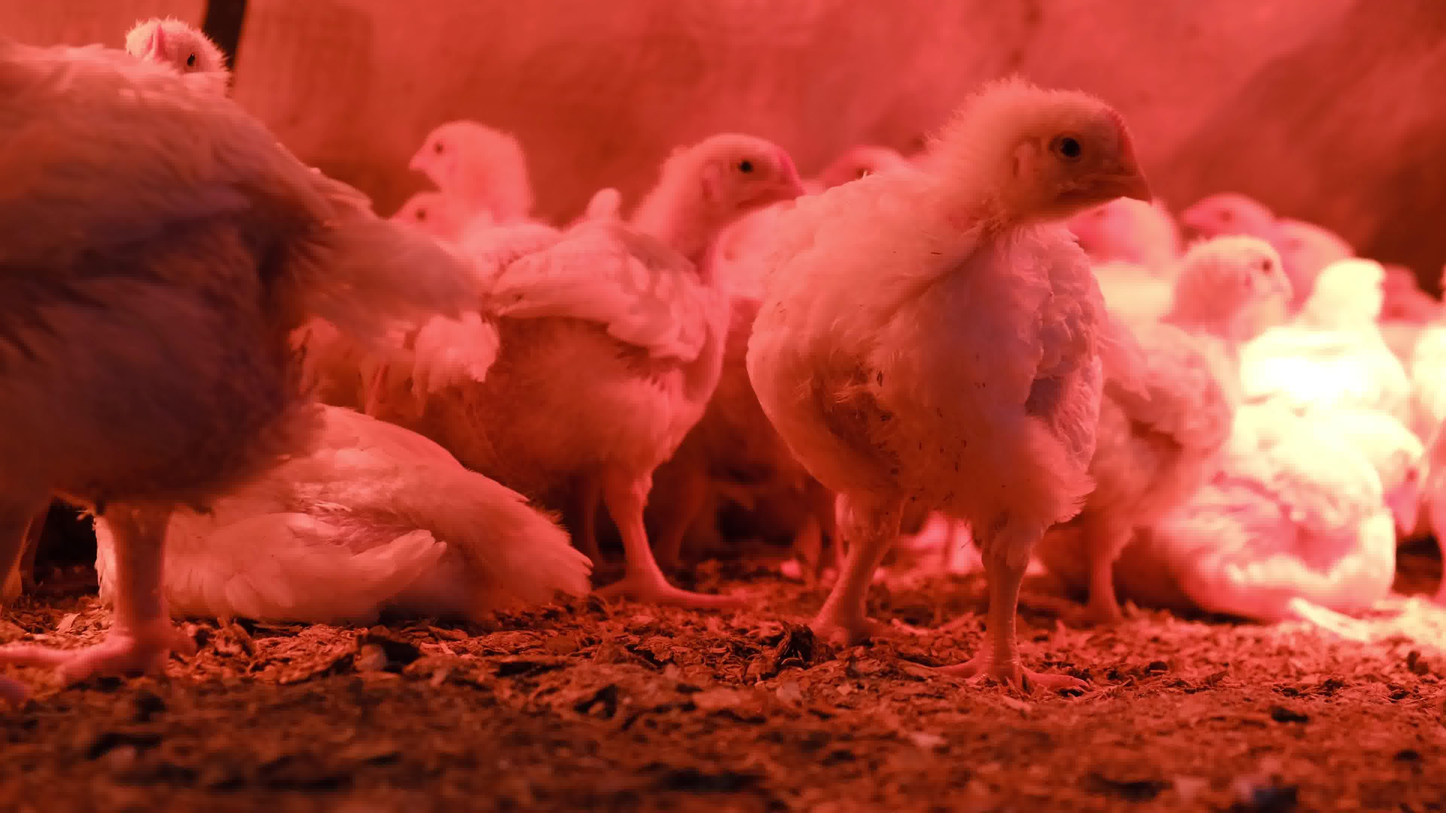AbNormal: (134, 350, 648, 657), (1105, 397, 1446, 651)
Normal: (0, 0, 424, 715), (736, 51, 1154, 698), (480, 139, 825, 634), (1077, 213, 1275, 627), (1224, 226, 1446, 478), (388, 119, 618, 356), (1165, 126, 1405, 271)
